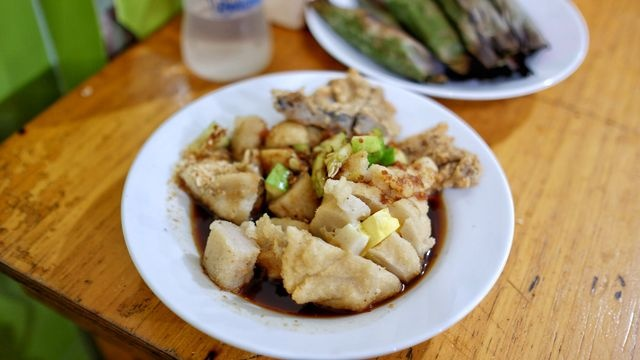pempek: (180, 66, 483, 310)
